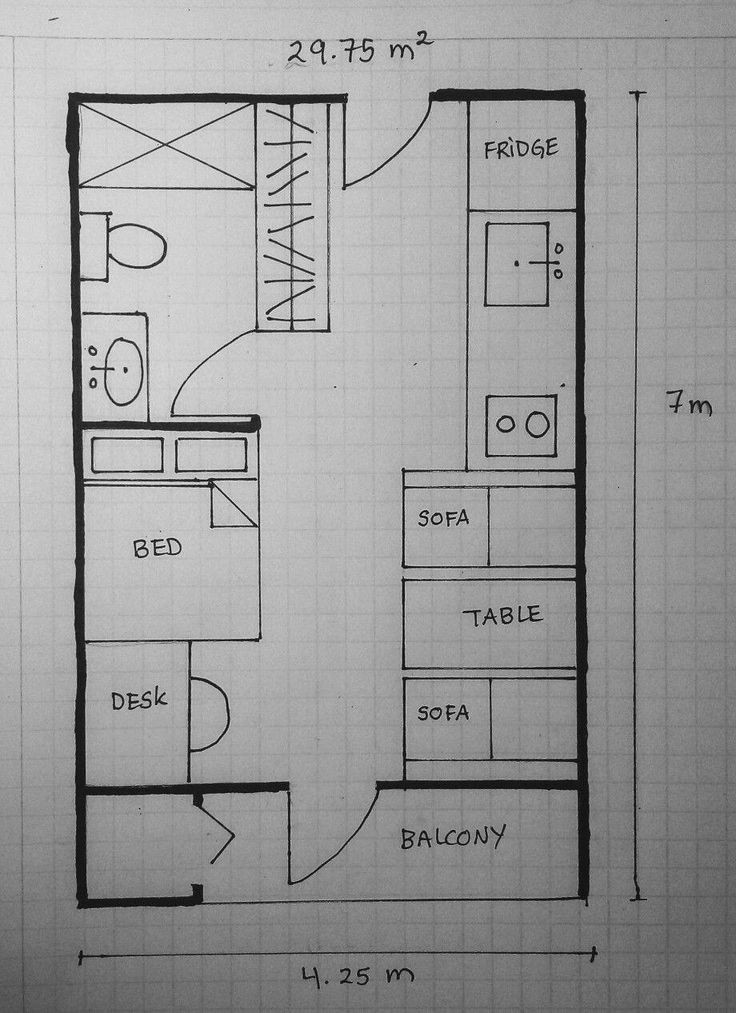door: (287, 783, 384, 886), (348, 99, 431, 195)
room: (58, 80, 607, 911)
wall: (558, 114, 604, 897), (62, 89, 88, 909), (67, 85, 350, 111), (378, 772, 590, 797), (88, 412, 261, 440), (428, 80, 584, 109), (91, 783, 295, 799)
